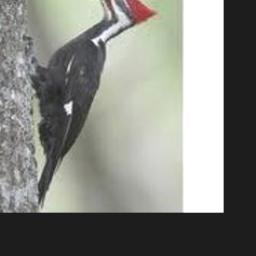Woodpecker: (30, 0, 159, 208)
